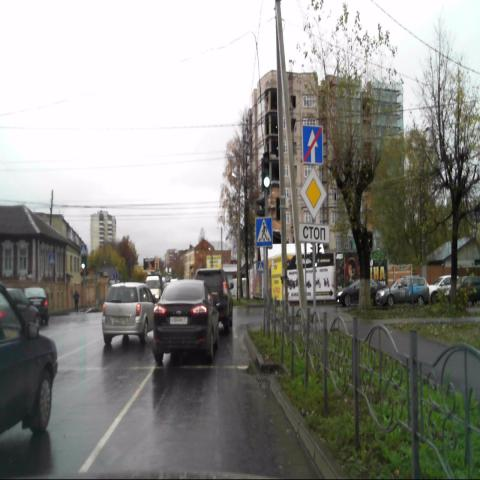2_1: (300, 167, 326, 219)
5_19_1: (255, 216, 272, 246)
5_6: (302, 124, 322, 165)
6_16: (299, 224, 329, 243)
